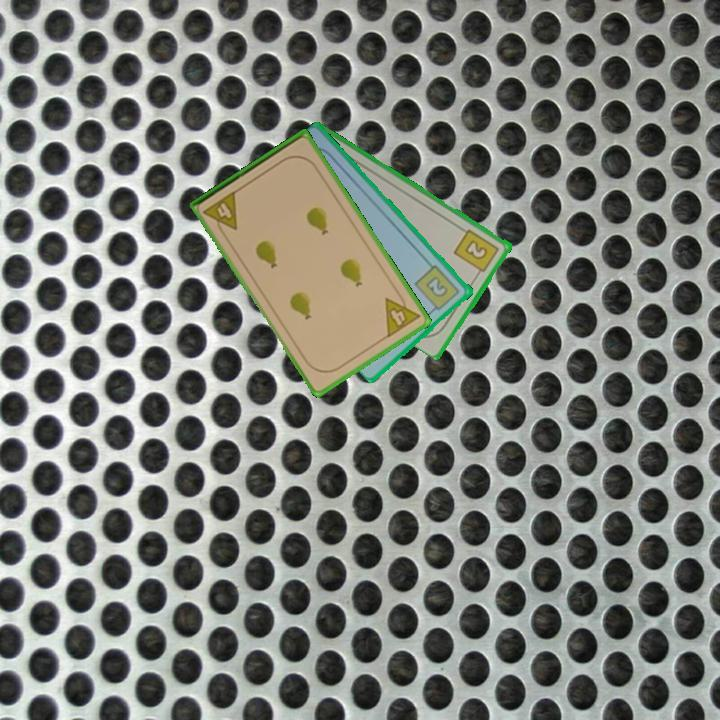2b: (412, 262, 463, 316), (451, 226, 502, 279)
4p: (381, 287, 423, 341), (200, 187, 241, 239)
